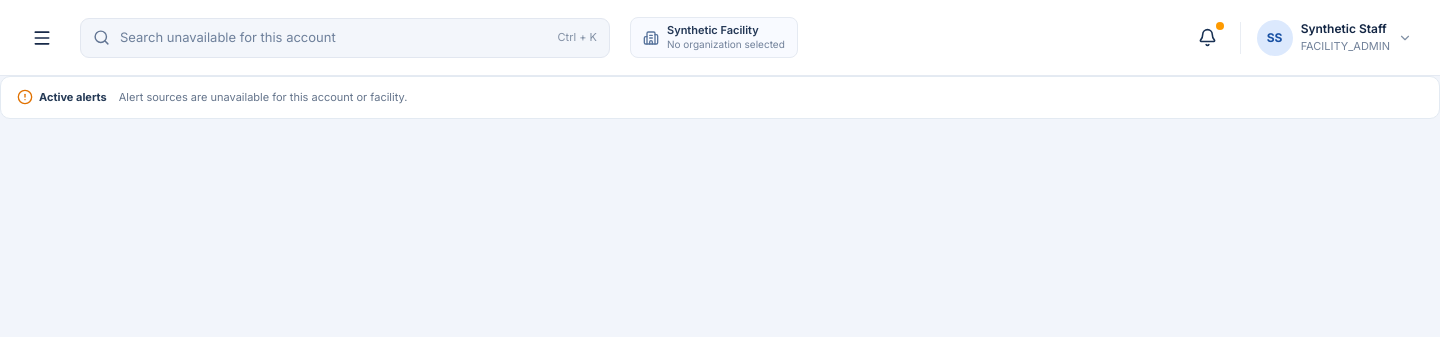
notification centre behavior › explains when the account has no permitted notification source
The image size is (1440, 337).
expect the element named "Active operational alerts" shows "unavailable for this account": met, box [119,90,407,104]
Step 1. Click the button named "Notifications" → (1208, 38), box [1188,18,1228,58]
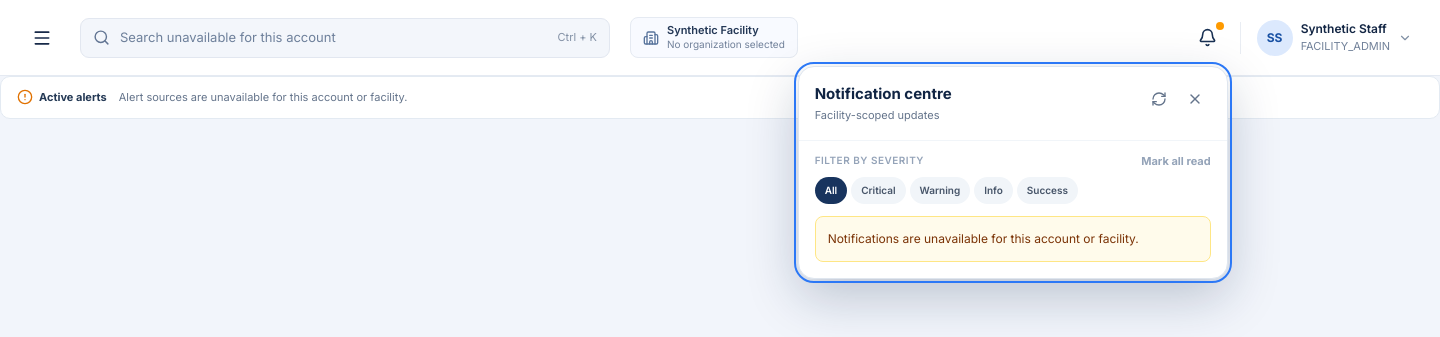
expect the message "Notifications are unavailable for this account or facility." is shown: met, box [815,216,1211,262]
